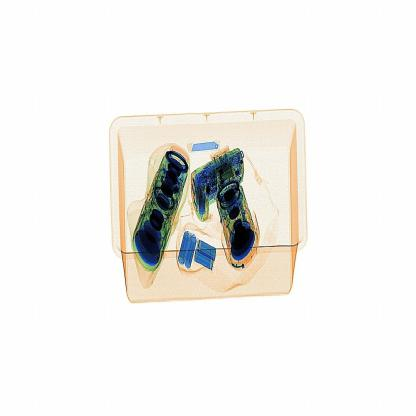pliers: (179, 134, 227, 154)
